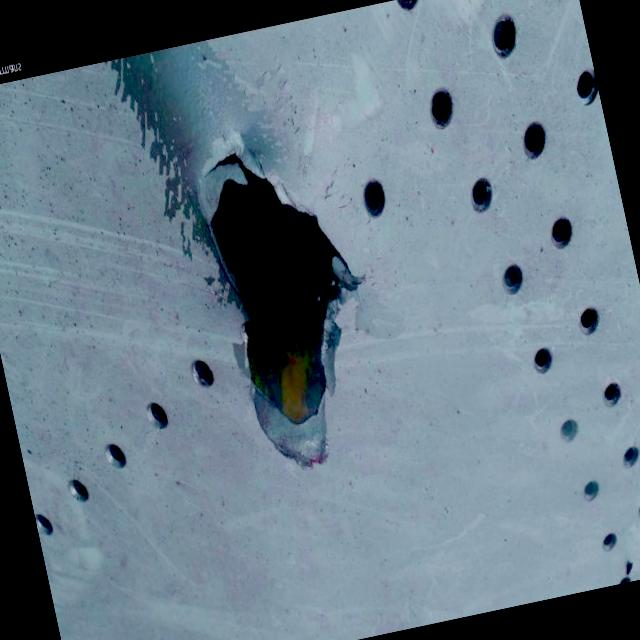crack: (180, 123, 400, 475)
